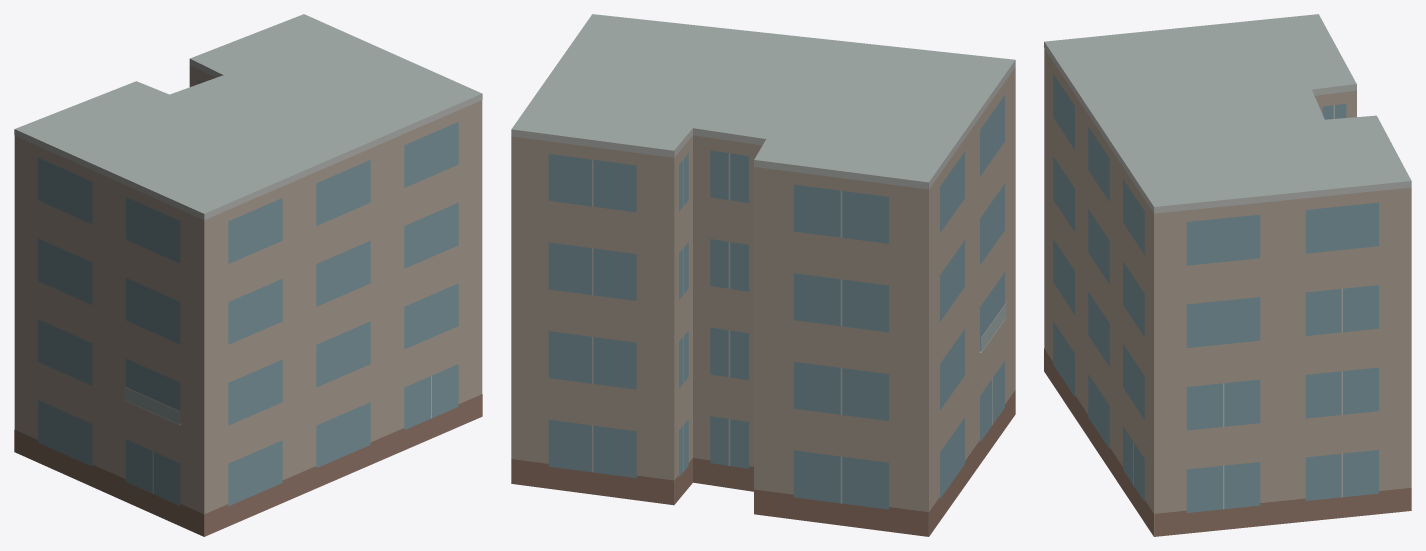
File: survey-upis-32677440.glb
3 renders of one model, left to right at view 1: azimuth 30°, elevation 25°; view 2: azimuth 150°, elevation 25°; view 3: azimuth 270°, elevation 25°, orthographic. The views are drawn at different scales.
Visible parts, largest first — view 1: survey-upis-32677440.tmp; view 2: survey-upis-32677440.tmp; view 3: survey-upis-32677440.tmp.
Part boxes in pixels (box(x1,y1,x2,y2)): survey-upis-32677440.tmp: box(14, 14, 482, 536); survey-upis-32677440.tmp: box(511, 14, 1015, 536); survey-upis-32677440.tmp: box(1044, 14, 1411, 536).
Bounding box in the file's own units: 15.45 × 12.3 × 12.43.
